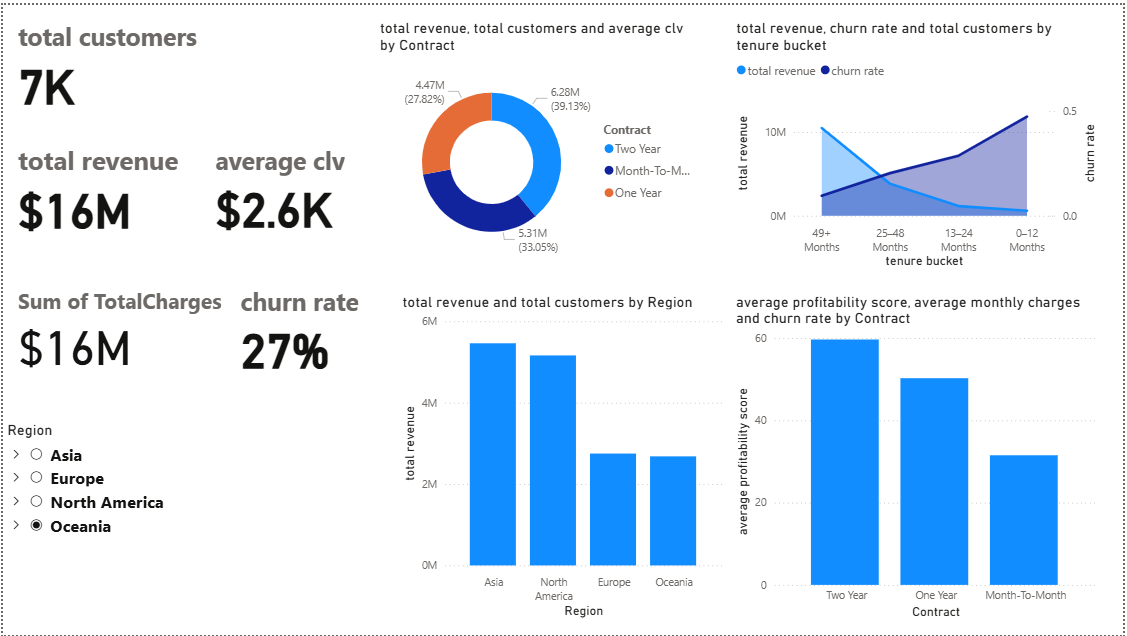

Layout of this report page (visuals, bound fields, positions):
{"tool":"powerbi","page":{"name":"Page 1","canvas":[1280,720],"ordinal":0},"visuals":[{"type":"cardVisual","fields":{"Data":["telecomcpa dim_customer.total customers"]},"box":[0,0,425.7,132.9],"z":0},{"type":"cardVisual","fields":{"Data":["telecomcpa dim_customer.total revenue"]},"box":[0,133.3,225,156.7],"z":1000},{"type":"cardVisual","fields":{"Data":["telecomcpa dim_customer.average clv"]},"box":[225,133.3,200,156.7],"z":2000},{"type":"cardVisual","fields":{"Data":["telecomcpa dim_customer.churn rate"]},"box":[0,290,225,185],"z":3000},{"type":"clusteredColumnChart","fields":{"Y":["telecomcpa dim_customer.total revenue"],"Category":["telecomcpa dim_customer.Region"]},"box":[451.6,328.4,375.7,376.9],"z":4000},{"type":"donutChart","fields":{"Category":["telecomcpa fact_profitability.Contract"],"Y":["telecomcpa dim_customer.total revenue"]},"box":[425.7,15.7,375.7,290],"z":5000},{"type":"areaChart","fields":{"Y":["telecomcpa dim_customer.total revenue"],"Category":["telecomcpa fact_profitability.tenure bucket1"],"Y2":["telecomcpa dim_customer.churn rate"]},"box":[833.5,16.2,421.7,289.8],"z":6000},{"type":"clusteredColumnChart","fields":{"Category":["telecomcpa fact_profitability.Contract"],"Y":["telecomcpa dim_customer.average profitability score"]},"box":[833.5,328.4,422.9,378.2],"z":7000},{"type":"cardVisual","fields":{"Data":["Sum(telecomcpa fact_profitability.TotalCharges)"]},"box":[225,290,200,185],"z":8000},{"type":"listSlicer","fields":{"Values":["telecomcpa stg_telco_clean.Region","telecomcpa stg_telco_clean.Contract","telecomcpa stg_telco_clean.InternetService","telecomcpa stg_telco_clean.SeniorCitizen"]},"box":[0,475,425,245],"z":9000}]}

Visuals, with their boxes in screenshot pixels (x1, y1, x2, y2), scaled from the page's 1280x720 canvas onto the 1127x636 screenshot:
cardVisual - telecomcpa dim_customer.total customers: 0,0,375,117
cardVisual - telecomcpa dim_customer.total revenue: 0,118,198,256
cardVisual - telecomcpa dim_customer.average clv: 198,118,374,256
cardVisual - telecomcpa dim_customer.churn rate: 0,256,198,420
clusteredColumnChart - telecomcpa dim_customer.total revenue x telecomcpa dim_customer.Region: 398,290,728,623
donutChart - telecomcpa fact_profitability.Contract x telecomcpa dim_customer.total revenue: 375,14,706,270
areaChart - telecomcpa dim_customer.total revenue x telecomcpa fact_profitability.tenure bucket1: 734,14,1105,270
clusteredColumnChart - telecomcpa fact_profitability.Contract x telecomcpa dim_customer.average profitability score: 734,290,1106,624
cardVisual - Sum(telecomcpa fact_profitability.TotalCharges): 198,256,374,420
listSlicer - telecomcpa stg_telco_clean.Region x telecomcpa stg_telco_clean.Contract: 0,420,374,635
